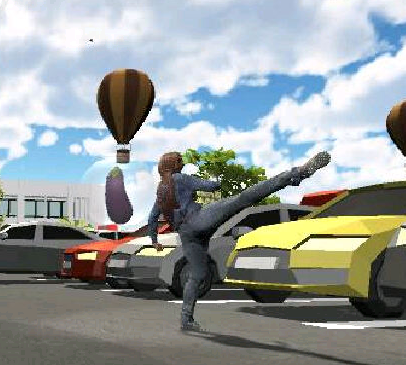turn_right: (145, 147, 336, 332)
